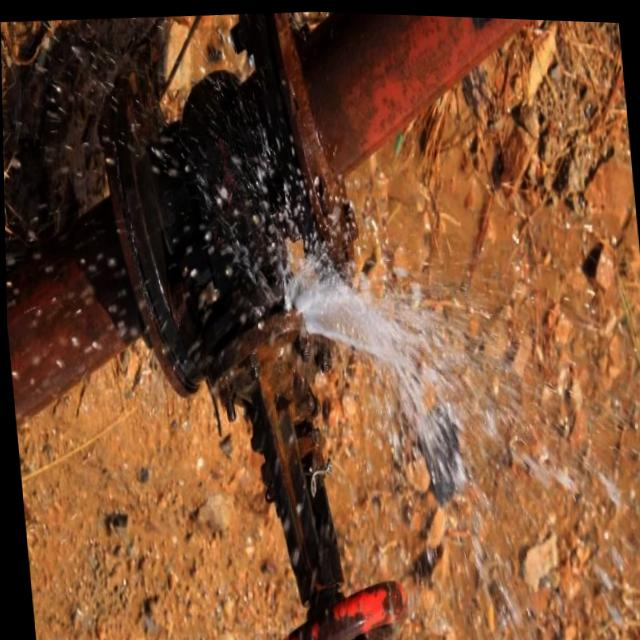leak: (286, 255, 499, 505)
